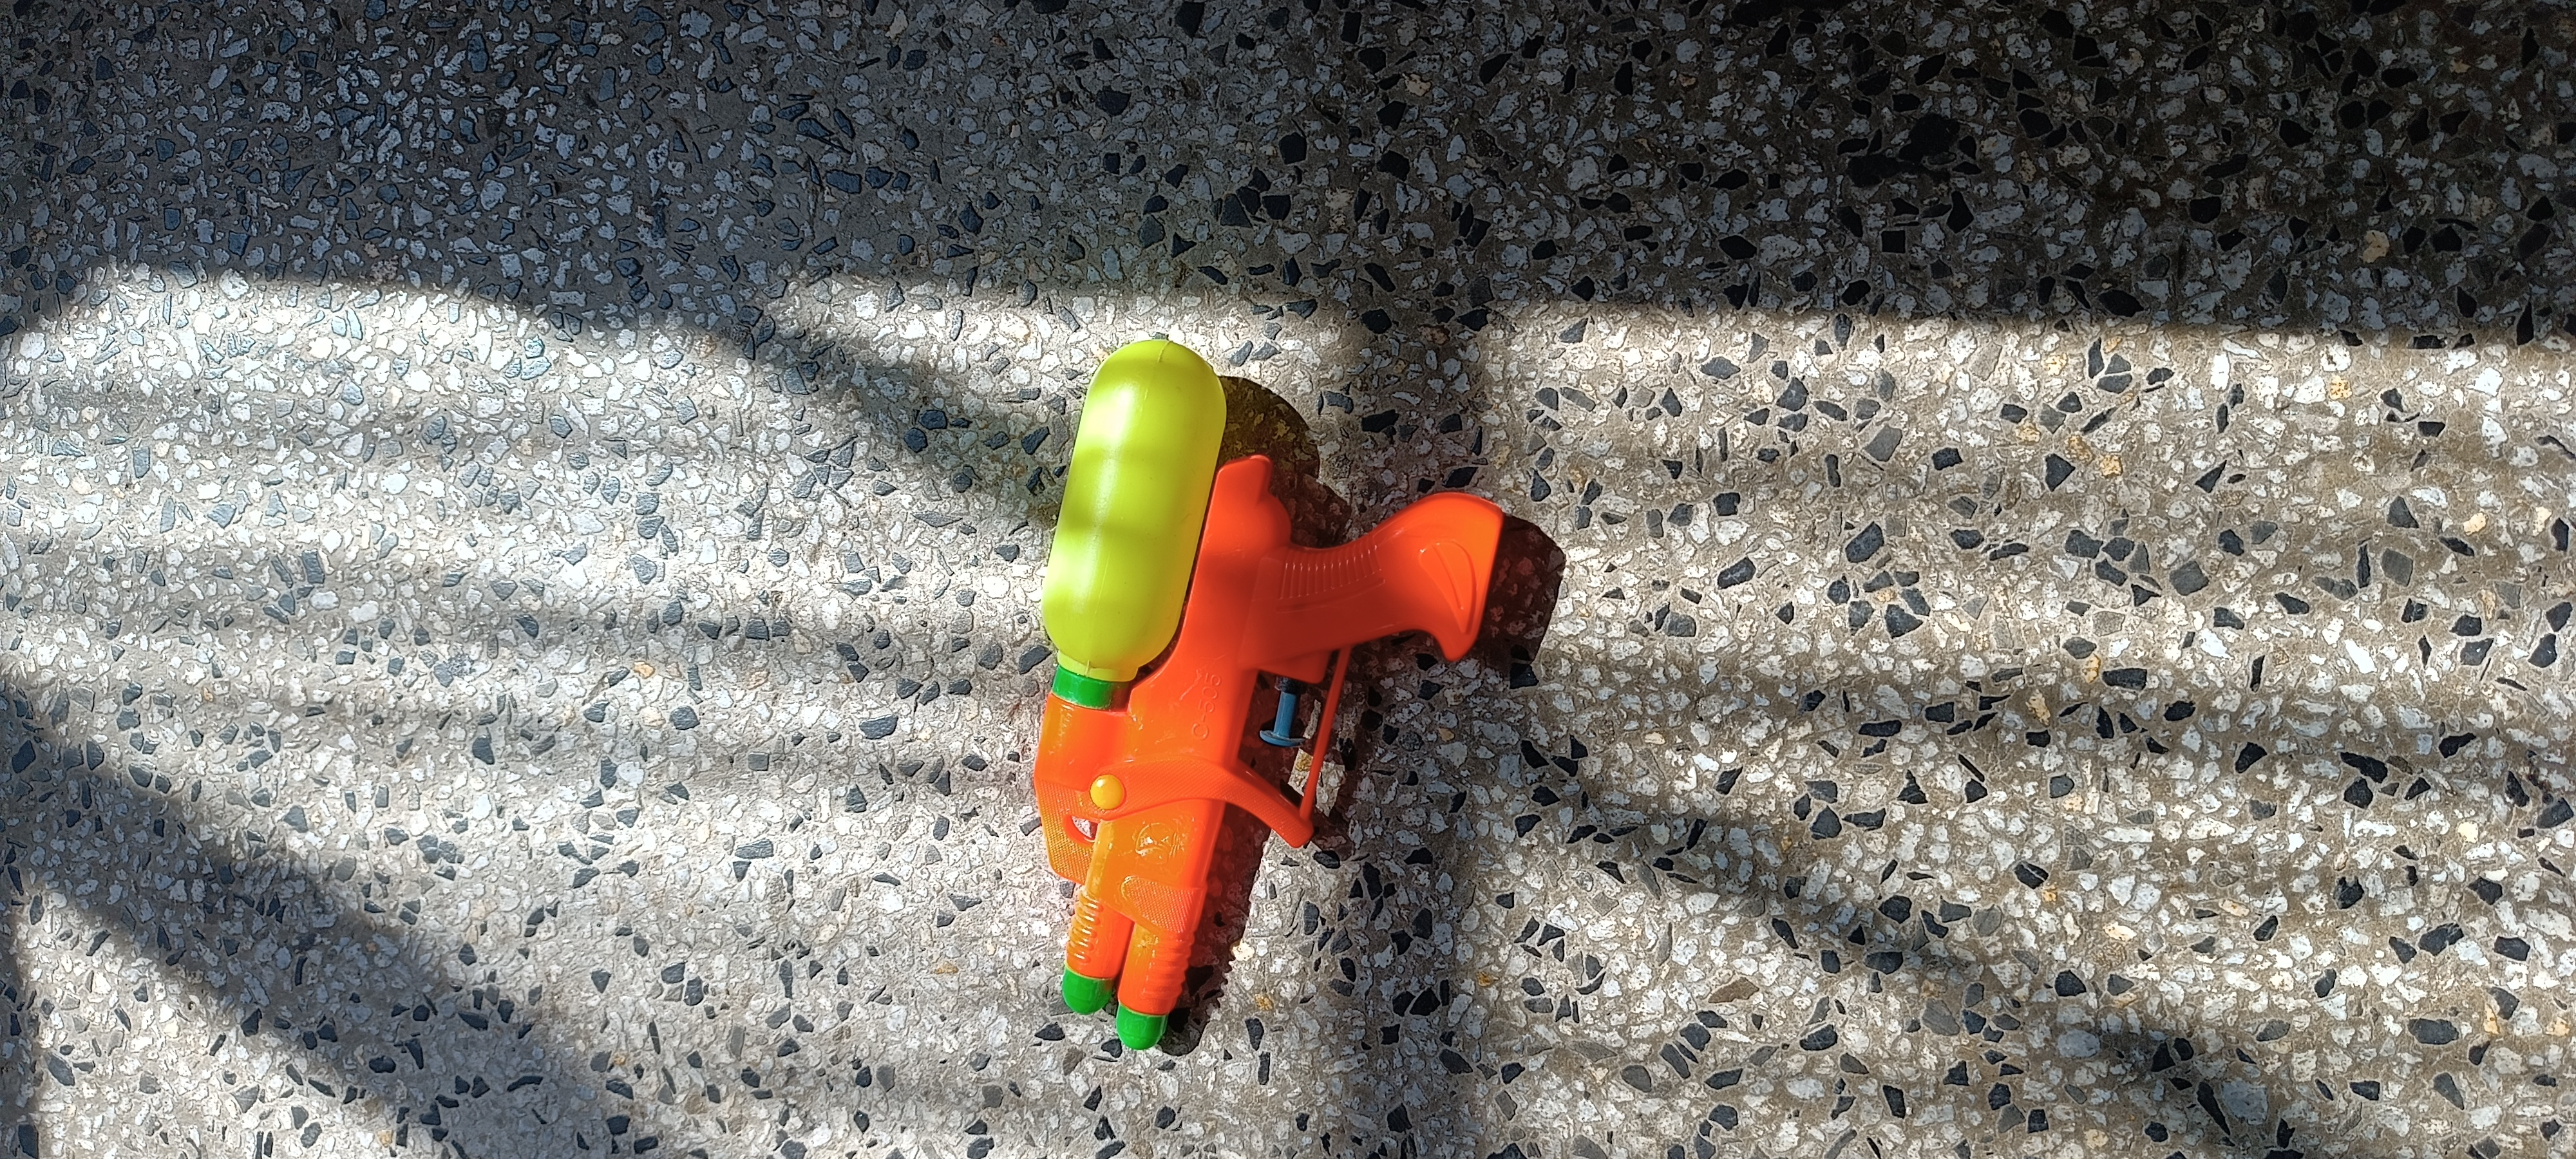Water Gun: (1032, 338, 1503, 1046)
